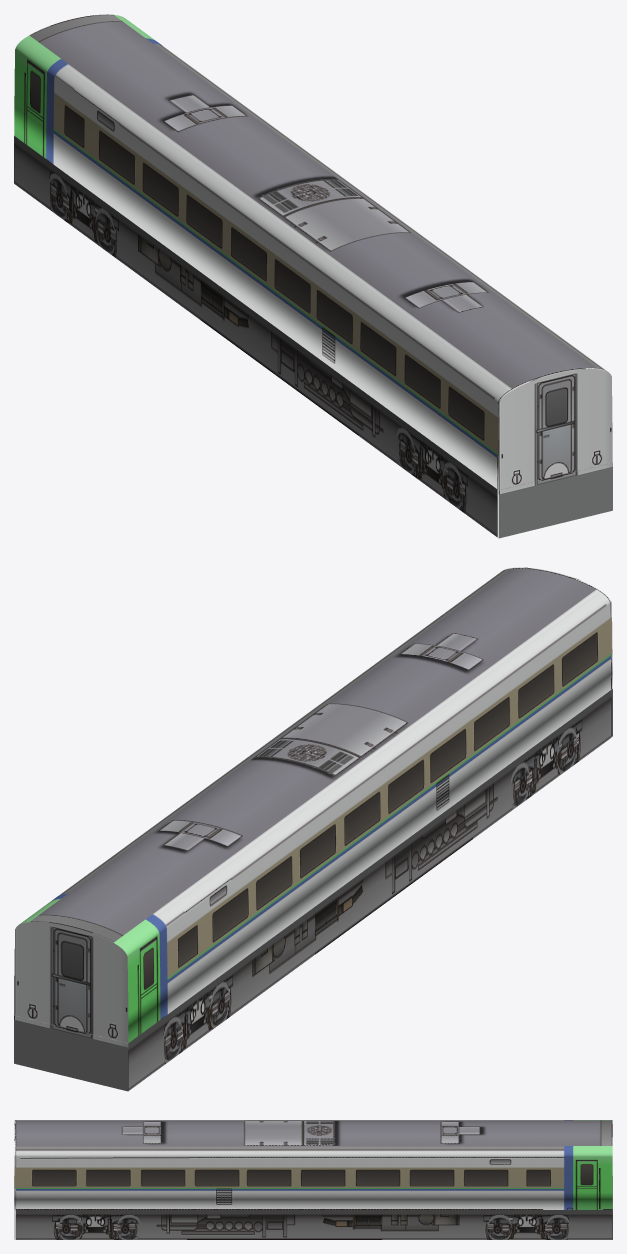
The model's file is car2.glb.
The picture shows the model from 3 angles, top to bottom: view 1: azimuth 30°, elevation 25°; view 2: azimuth 150°, elevation 25°; view 3: azimuth 270°, elevation 25°; orthographic projection. The views are drawn at different scales.
Parts seen in each view (by area): view 1: jr-hokkaido-kiha183-car2; view 2: jr-hokkaido-kiha183-car2; view 3: jr-hokkaido-kiha183-car2.
Part boxes in pixels (<box>): jr-hokkaido-kiha183-car2: <box>14,14,612,538</box>; jr-hokkaido-kiha183-car2: <box>14,567,612,1091</box>; jr-hokkaido-kiha183-car2: <box>14,1120,612,1239</box>.
Bounding box in the file's own units: 2.9 × 3.65 × 21.33.
Materials: 9 (8 with a texture image).
